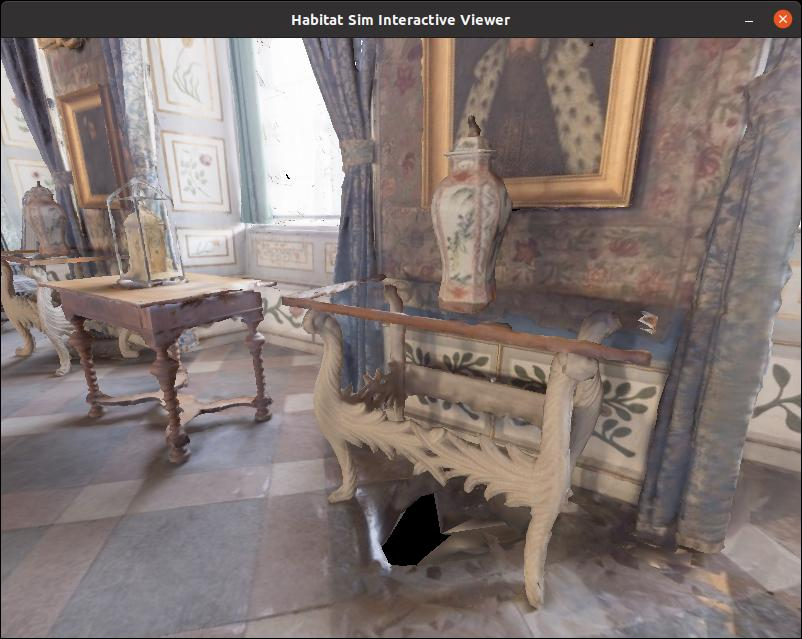table: (271, 231, 672, 608), (40, 245, 289, 463)
